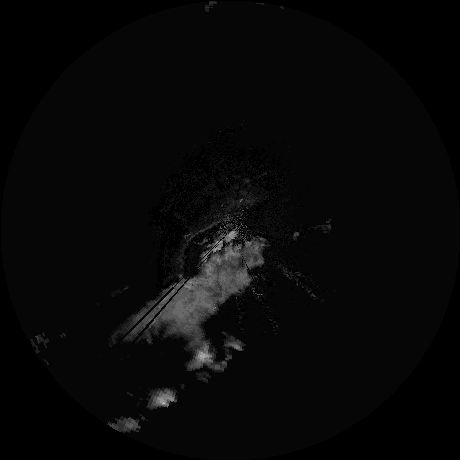frontgust: (177, 219, 223, 269)
